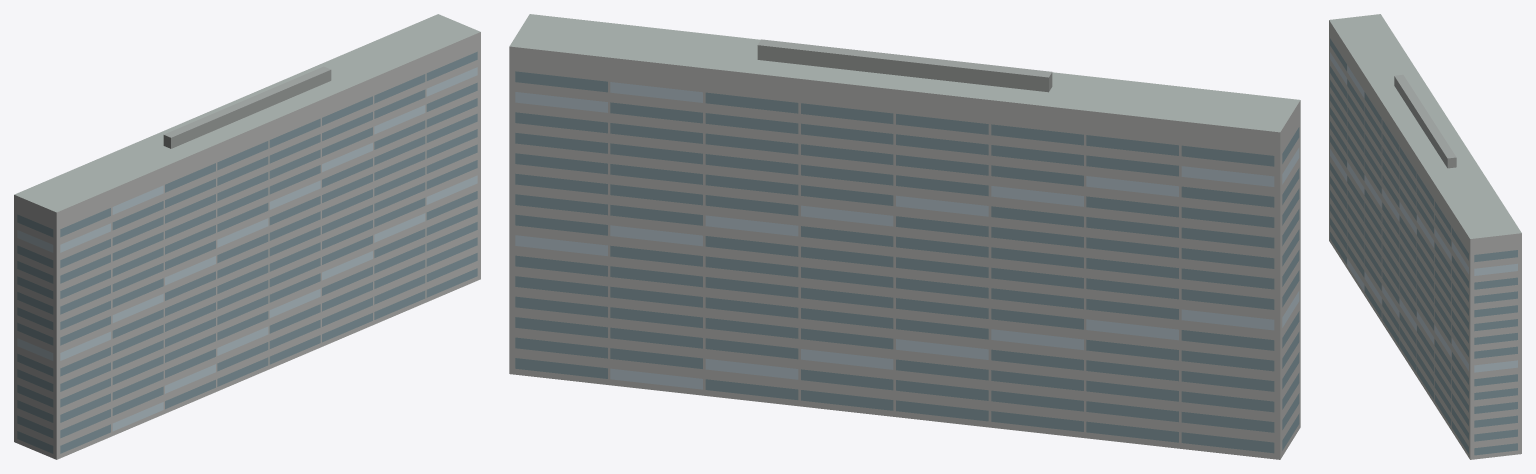
The model's file is fallback-olympic-athletes-village-310.glb.
The picture shows the model from 3 angles, left to right: view 1: azimuth 30°, elevation 25°; view 2: azimuth 150°, elevation 25°; view 3: azimuth 270°, elevation 25°; orthographic projection. The views are drawn at different scales.
Visible parts, largest first — view 1: fallback-olympic-athletes-village-310; view 2: fallback-olympic-athletes-village-310; view 3: fallback-olympic-athletes-village-310.
Part boxes in pixels (x1,y1,x2,y2): fallback-olympic-athletes-village-310: (14,14,480,459); fallback-olympic-athletes-village-310: (509,14,1300,459); fallback-olympic-athletes-village-310: (1329,14,1521,459).
Size of the model in its own units: 107 by 51 by 38.63.
